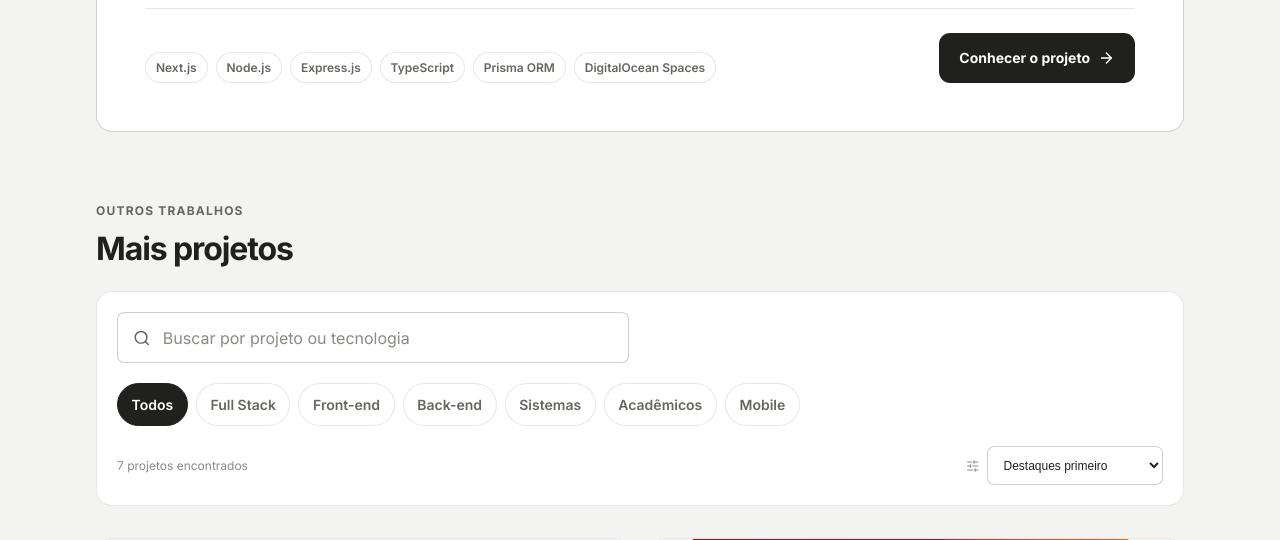
Projects › filtra por categoria e busca por tecnologia sem recarregar
(page scrolled)
Click the button "Mobile": (762, 405) [725,383,800,426]
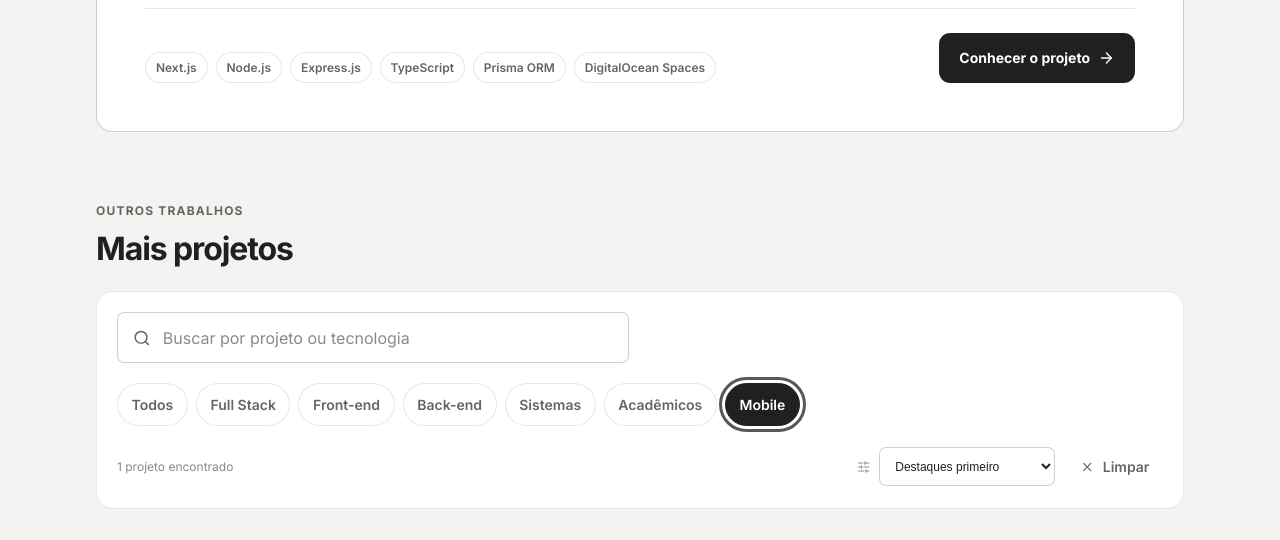
Click the button "Limpar": (1115, 467) [1067,446,1163,488]
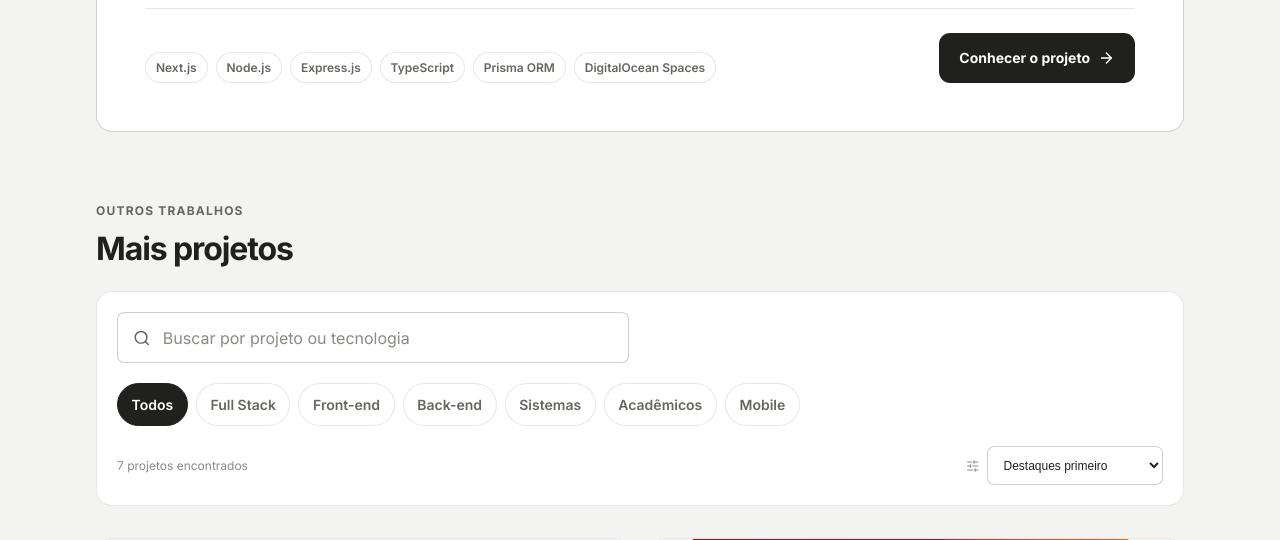
In the search field named "buscar projetos": (373, 338) [117,312,629,363], type "PostgreSQL"
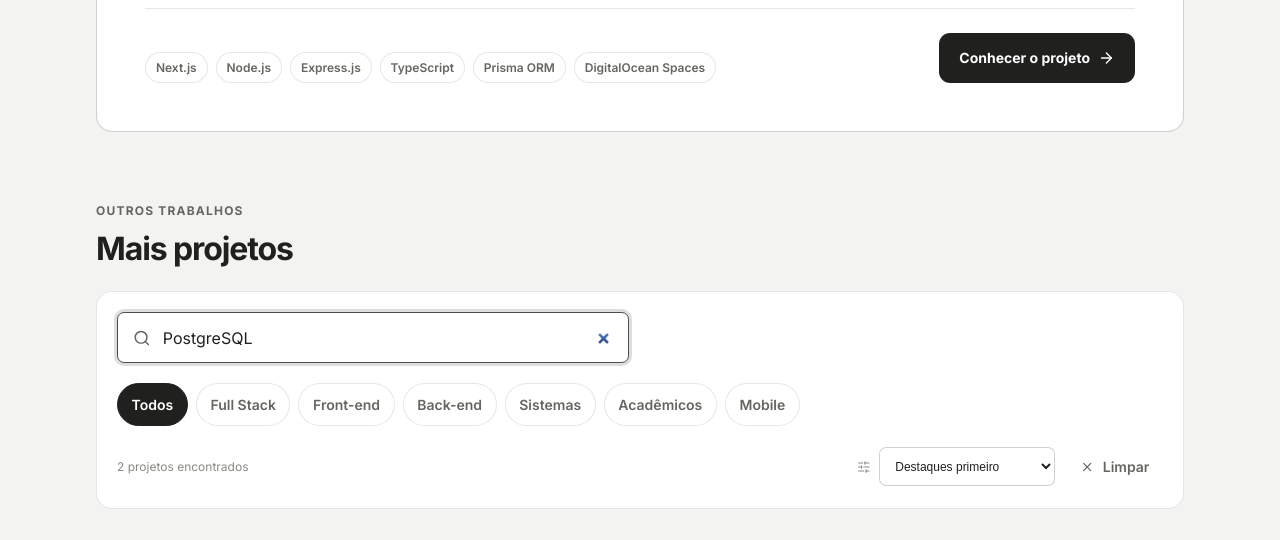
Now the text "2 projetos encontrados" is shown, box [117,457,248,477]
